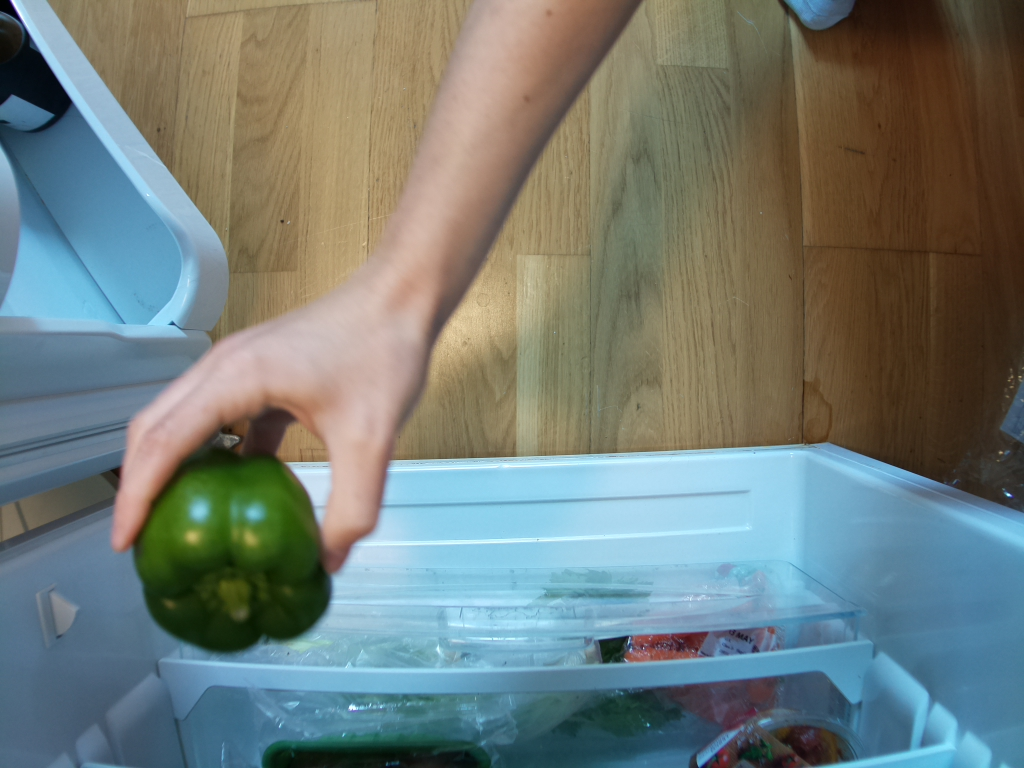pepper: (136, 446, 331, 653)
